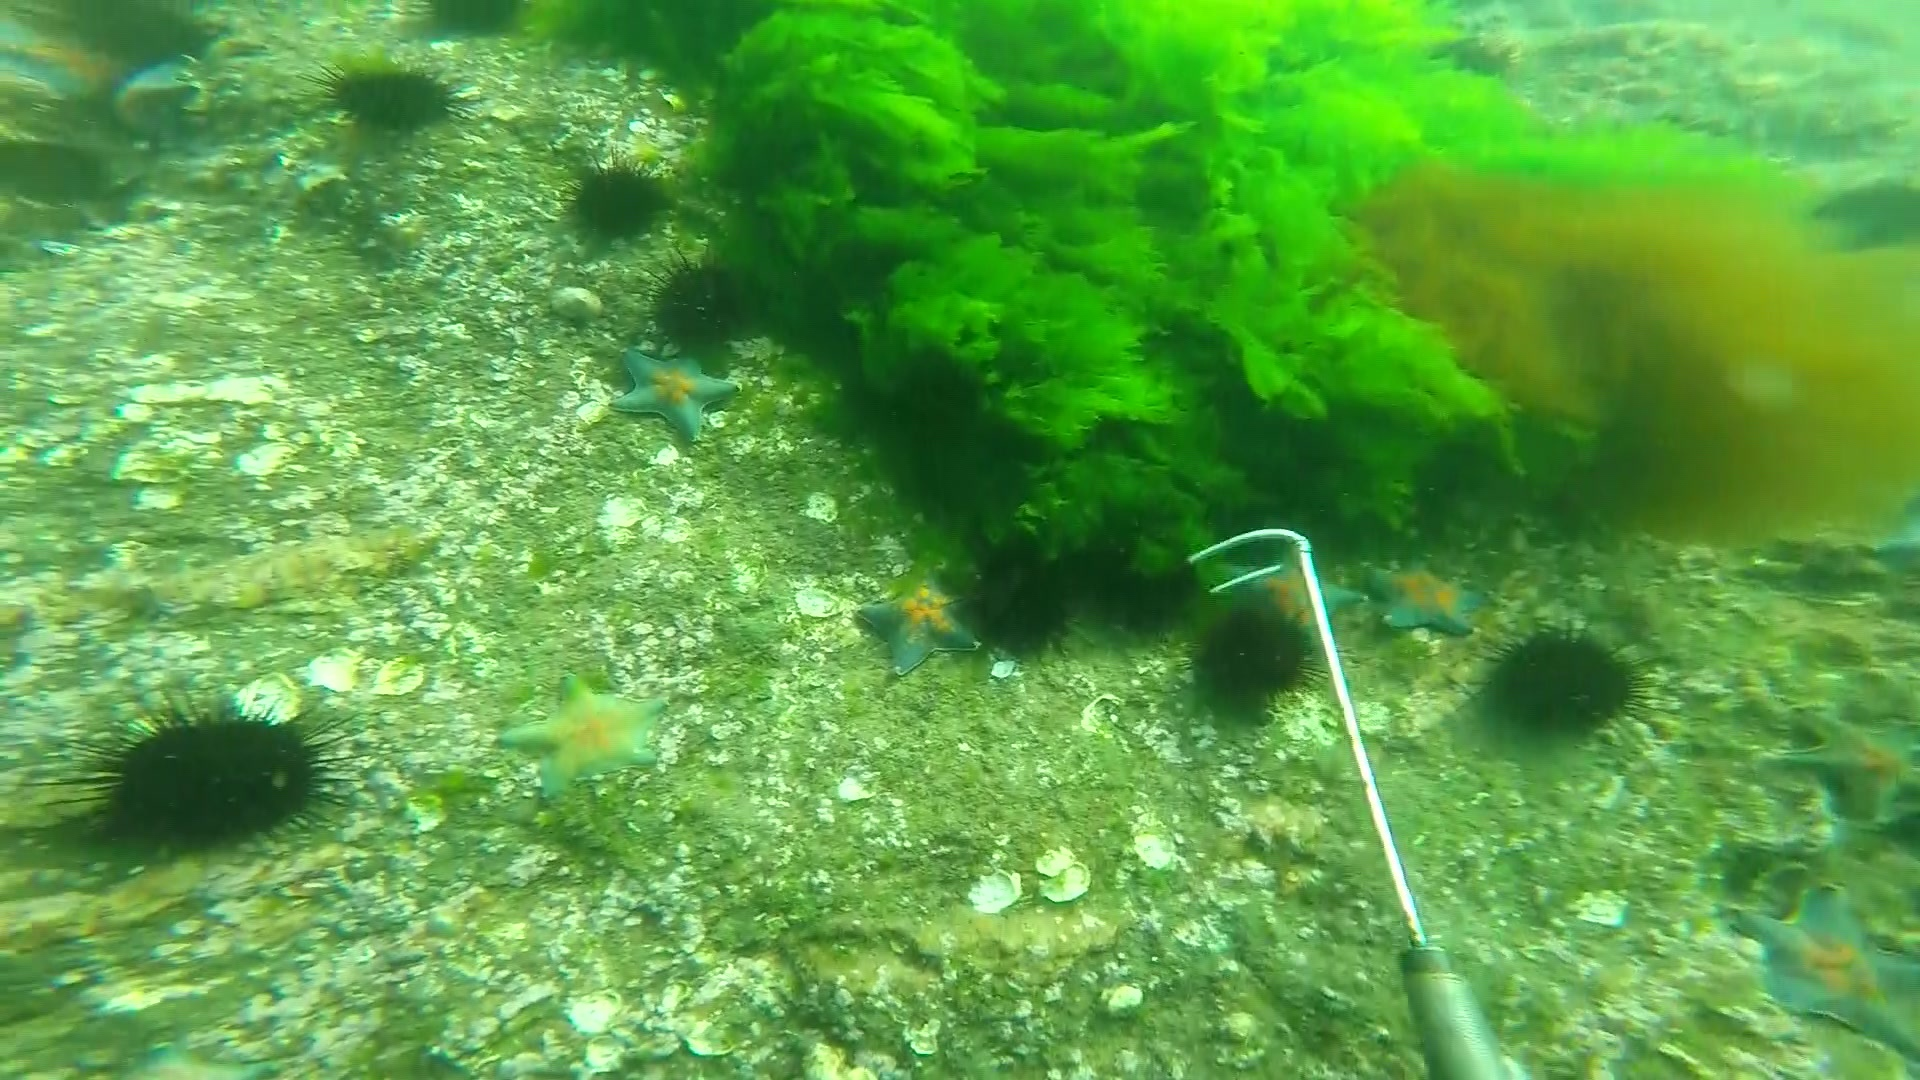echinus: (51, 698, 367, 860), (1487, 618, 1640, 738), (1195, 595, 1319, 717), (956, 546, 1083, 657), (640, 255, 767, 360), (327, 59, 471, 138), (560, 152, 676, 241)
starfish: (1731, 872, 1920, 1064), (493, 675, 673, 799), (1, 1, 178, 123), (1768, 690, 1920, 820), (1220, 534, 1366, 651), (608, 338, 746, 440), (857, 564, 982, 676), (1371, 549, 1480, 646)
